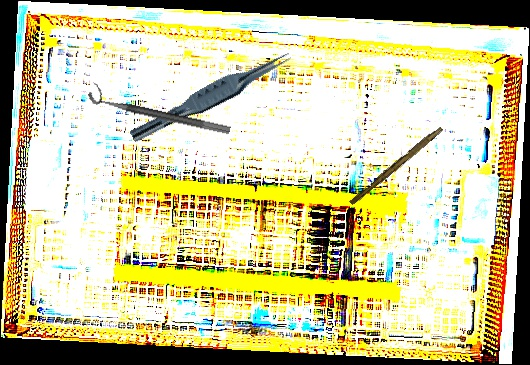Fixation Ring: (86, 81, 234, 136)
Scalpel Handle: (348, 123, 444, 208)
Tissue Forceps: (128, 42, 295, 152)
